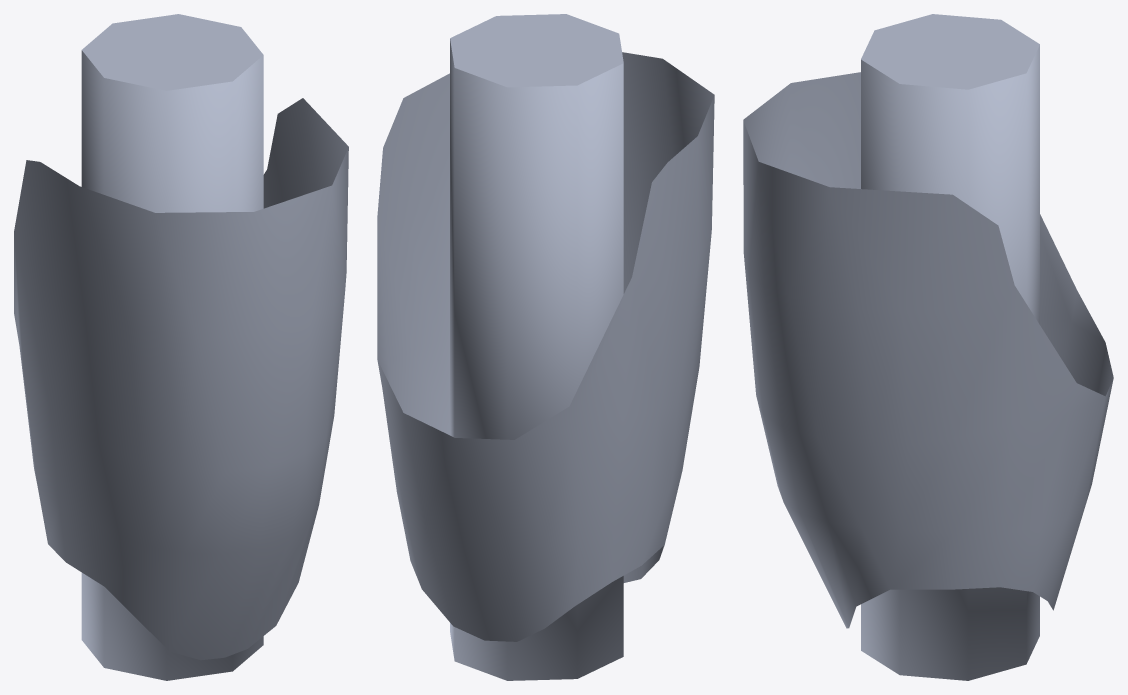
The model's file is r_forearm.dae.
3 views of the same model, side by side, from view 1: azimuth 30°, elevation 25°; view 2: azimuth 150°, elevation 25°; view 3: azimuth 270°, elevation 25° (orthographic).
Visible parts, largest first — view 1: r_forearm_mesh; view 2: r_forearm_mesh; view 3: r_forearm_mesh.
Part boxes in pixels (<box>): r_forearm_mesh: <box>14,14,348,680</box>; r_forearm_mesh: <box>377,14,714,680</box>; r_forearm_mesh: <box>743,14,1113,680</box>.
Bounding box in the file's own units: 0.0652 × 0.0795 × 0.14.
